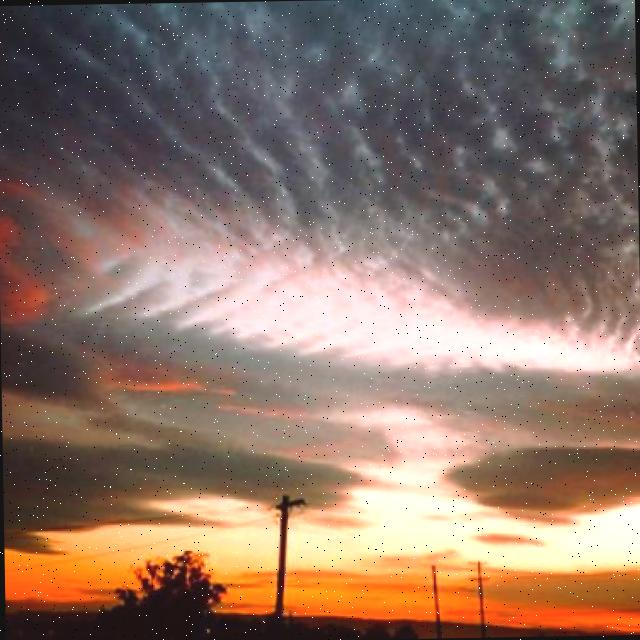Ac: (1, 1, 640, 449)
